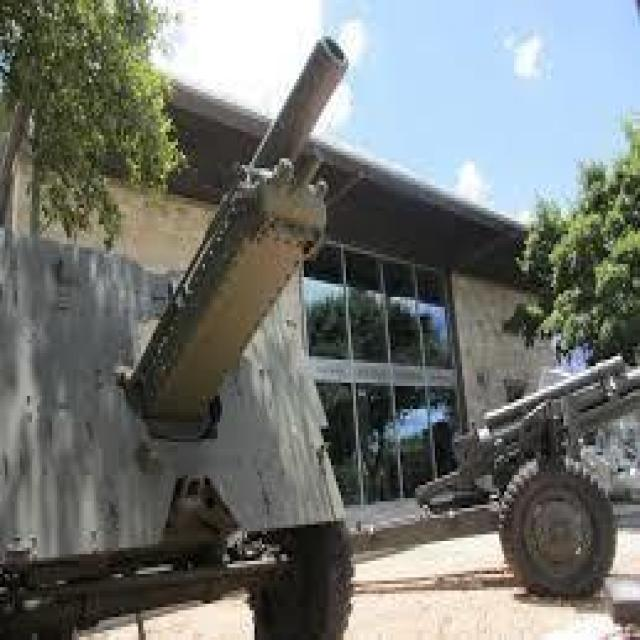Tanks: (2, 96, 354, 620)
